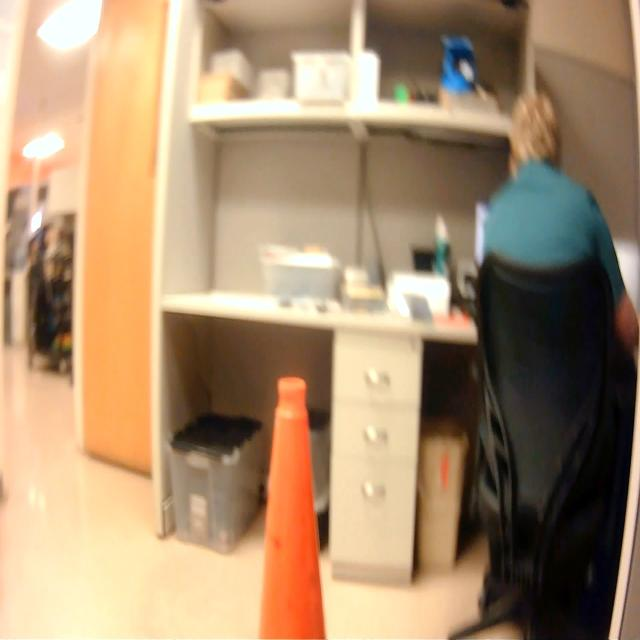traffic cone: (249, 364, 338, 640)
